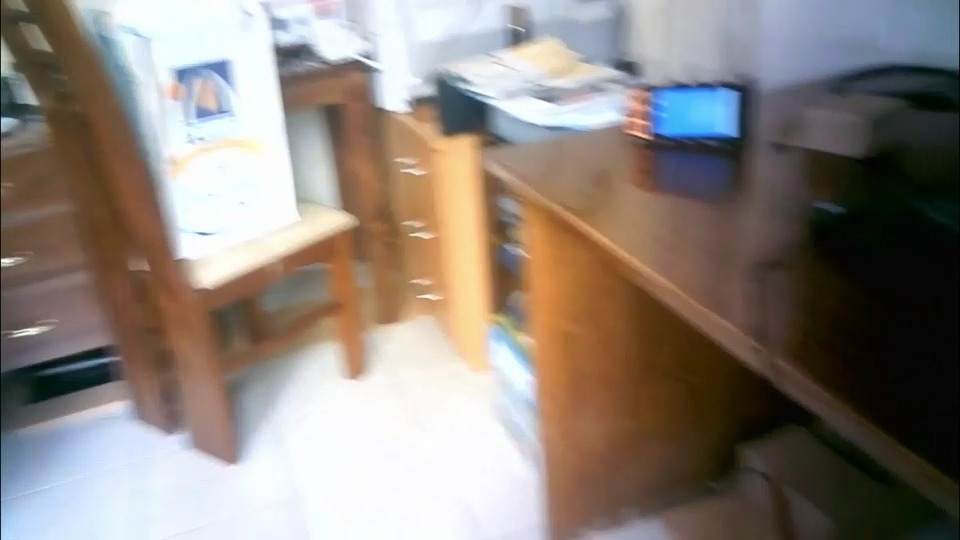wheat_flour_blue_label: (107, 7, 308, 257)
